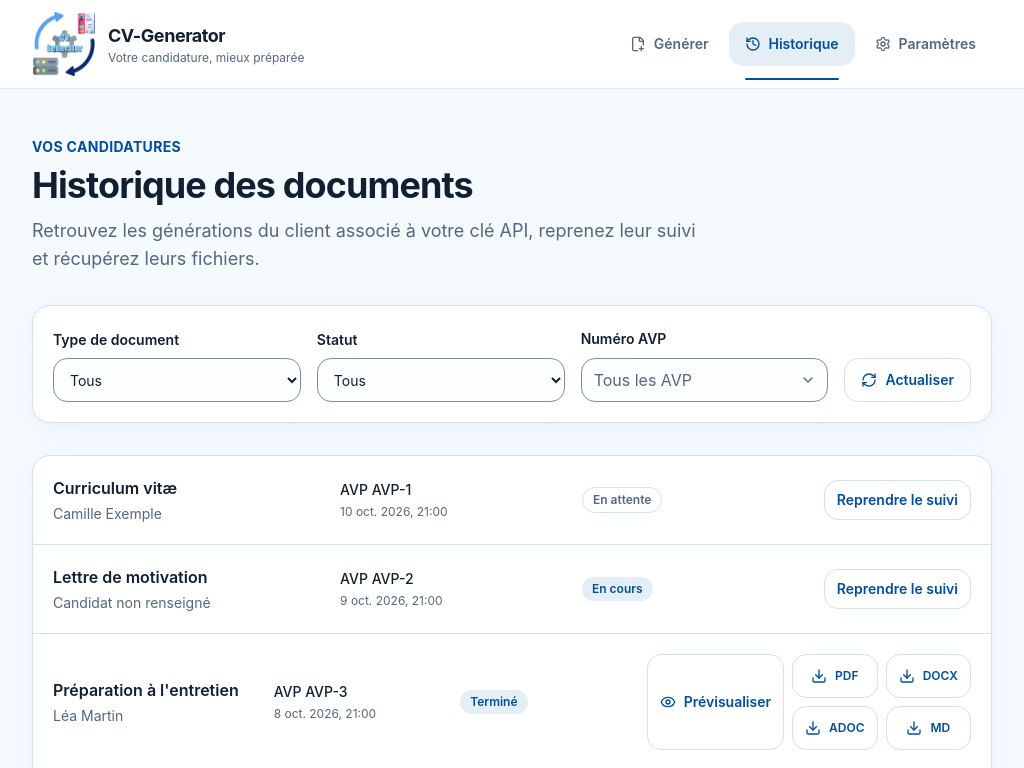
historique documentaire › réaffiche tous les AVP après une sélection et garde l'option clavier visible
The width and height of the screenshot is (1024, 768).
Type "avp-3" into the dropdown labelled "Numéro AVP".
click(704, 380); type("avp-3")  # box x1=581 y1=358 x2=828 y2=402
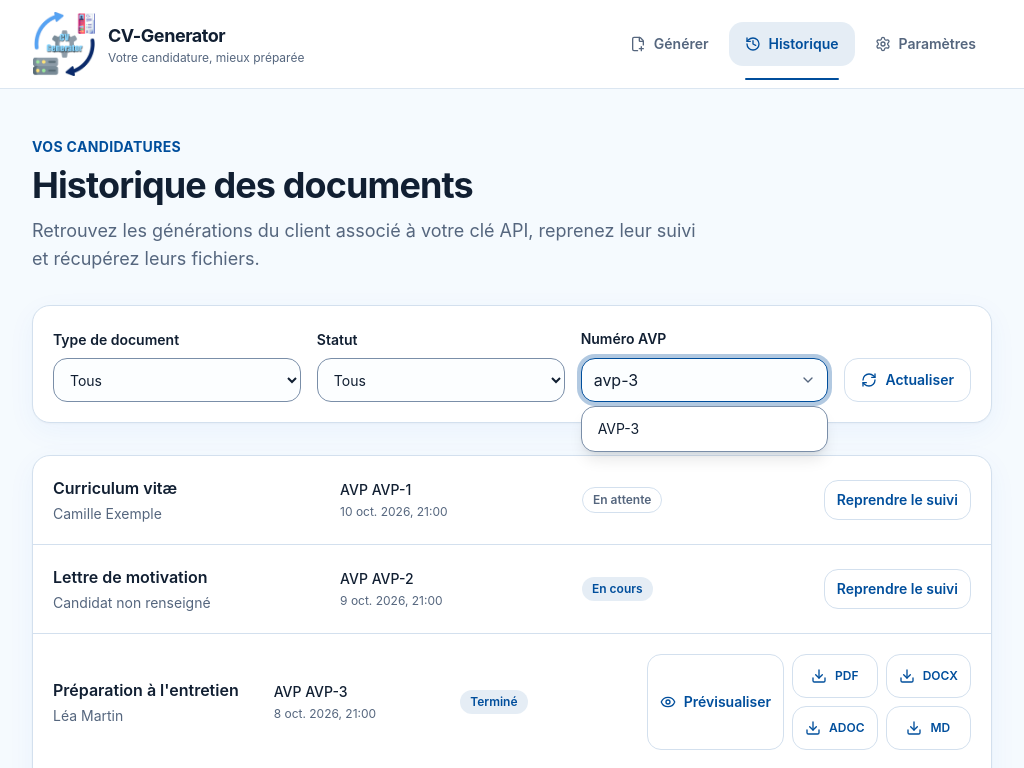
Press Arrowdown Enter
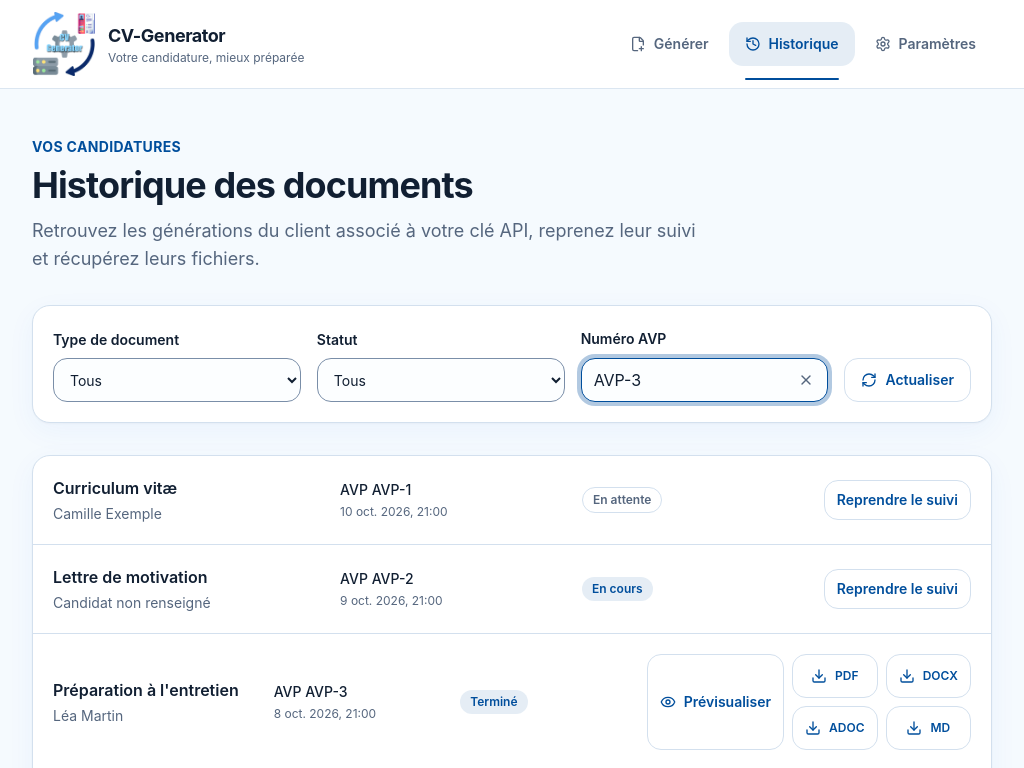
Click the dropdown labelled "Numéro AVP".
click(704, 380)  # box x1=581 y1=358 x2=828 y2=402
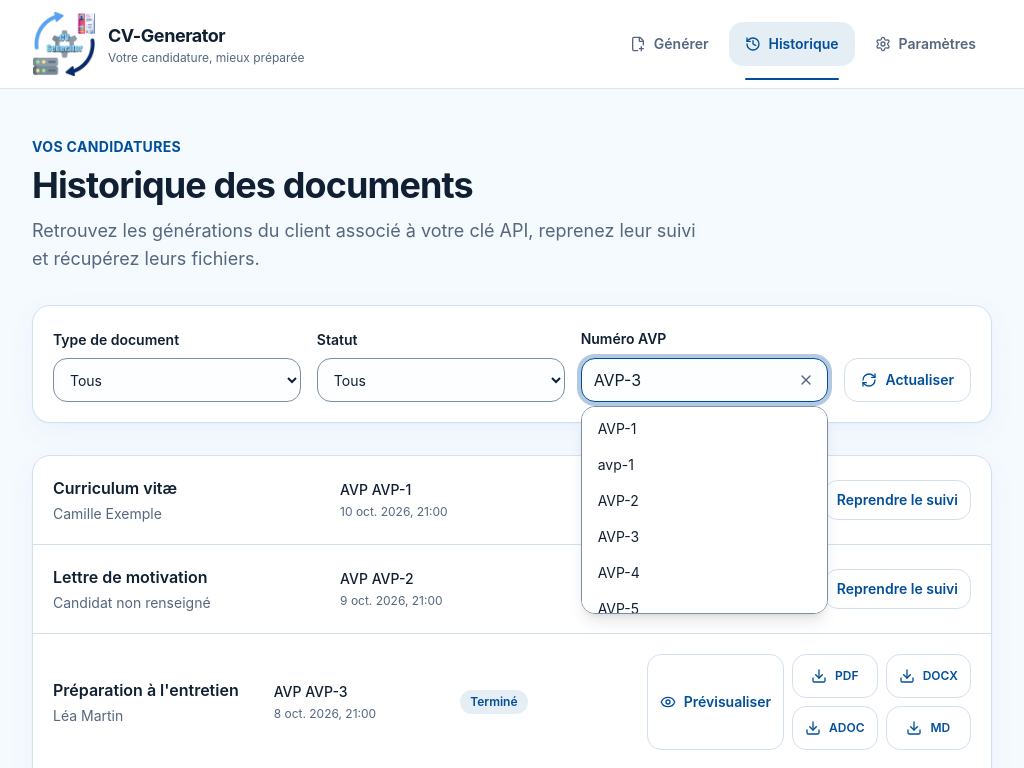
Press Arrowdown Arrowdown
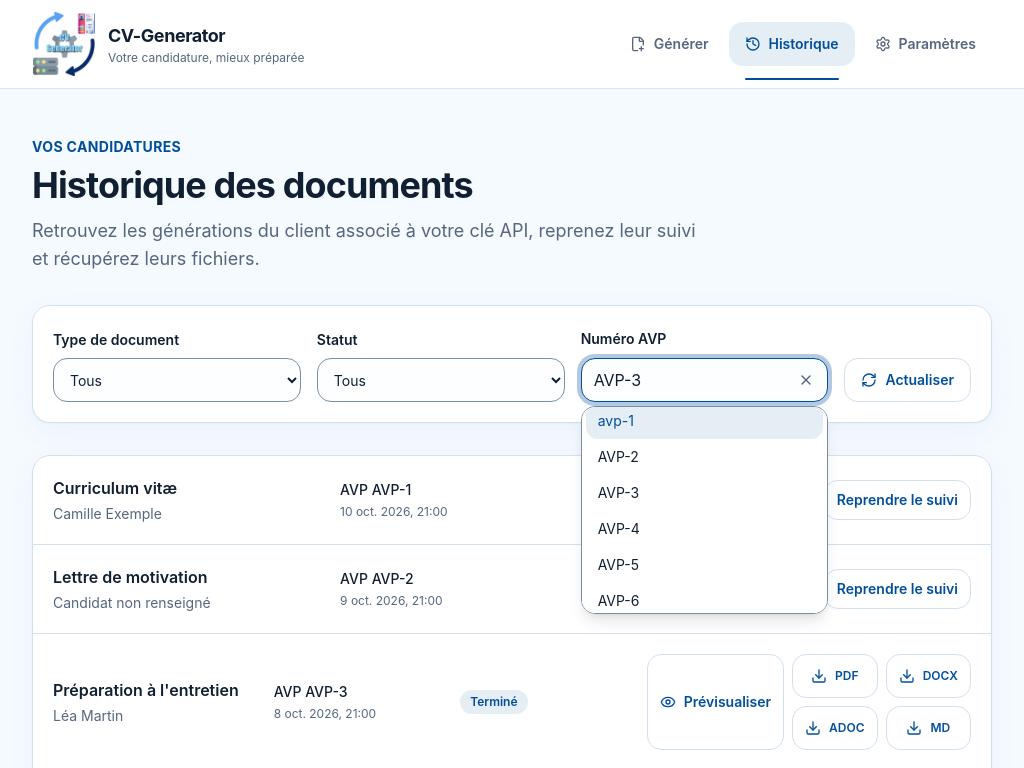
Replace the text in the dropdown labelled "Numéro AVP" with "avp-5" at (704, 380), box x1=581 y1=358 x2=828 y2=402
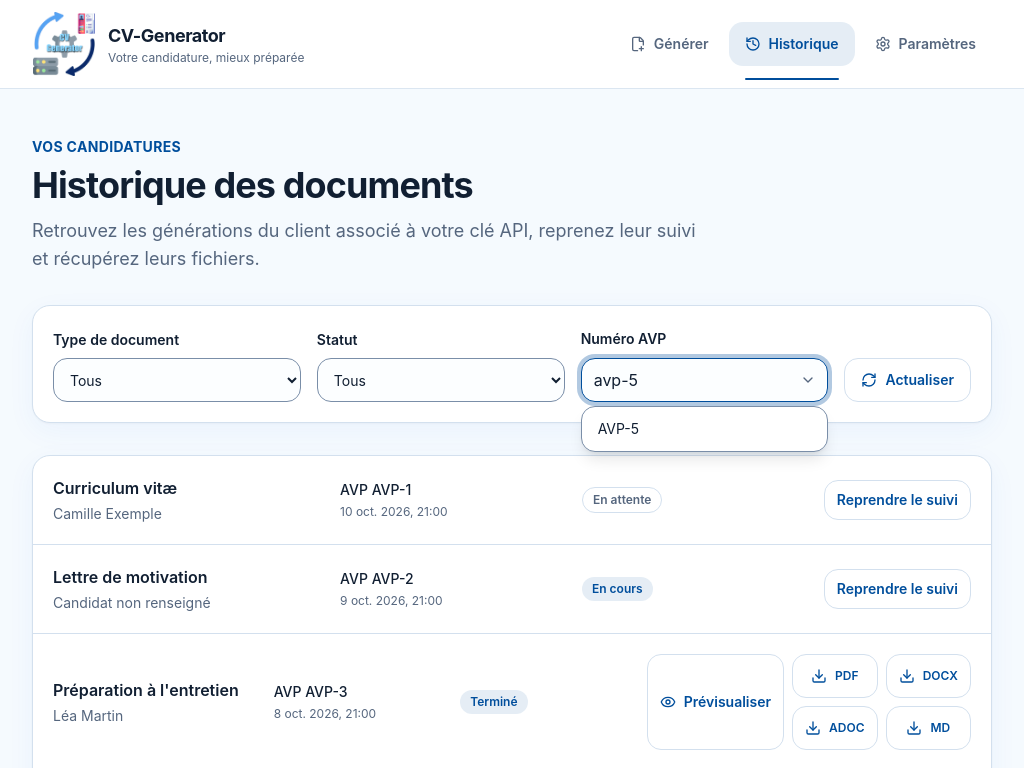
Result: the number of options is 1 at x1=598 y1=420 x2=639 y2=437
